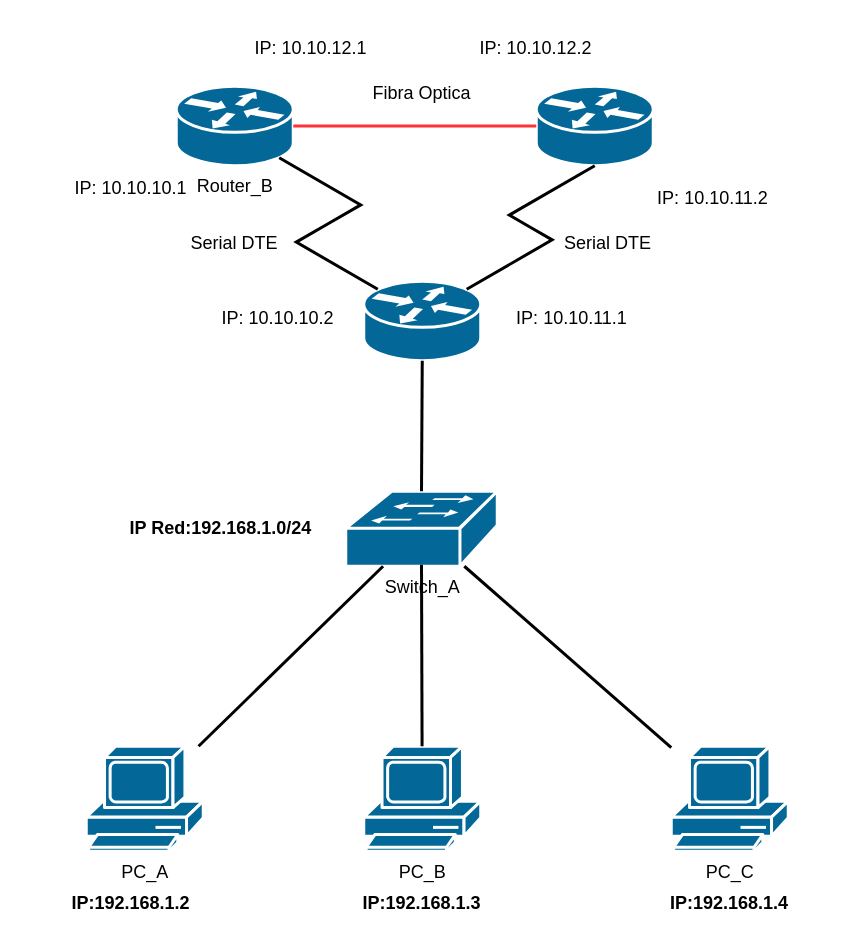
Image size: 860x951. Some labels were removed from this diagram. Each missing label, with the centre of its shape:
"Router_A" belongs at point 422,320.
"Router_C" belongs at point 594,125.
